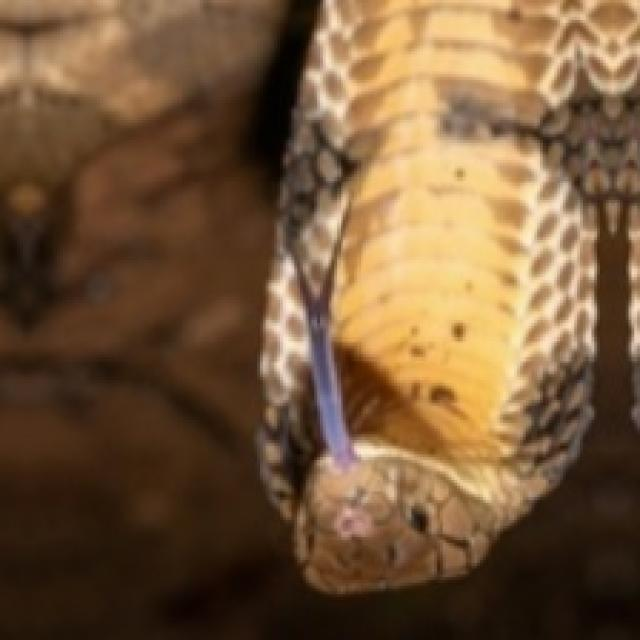king cobra: (260, 0, 637, 591)
